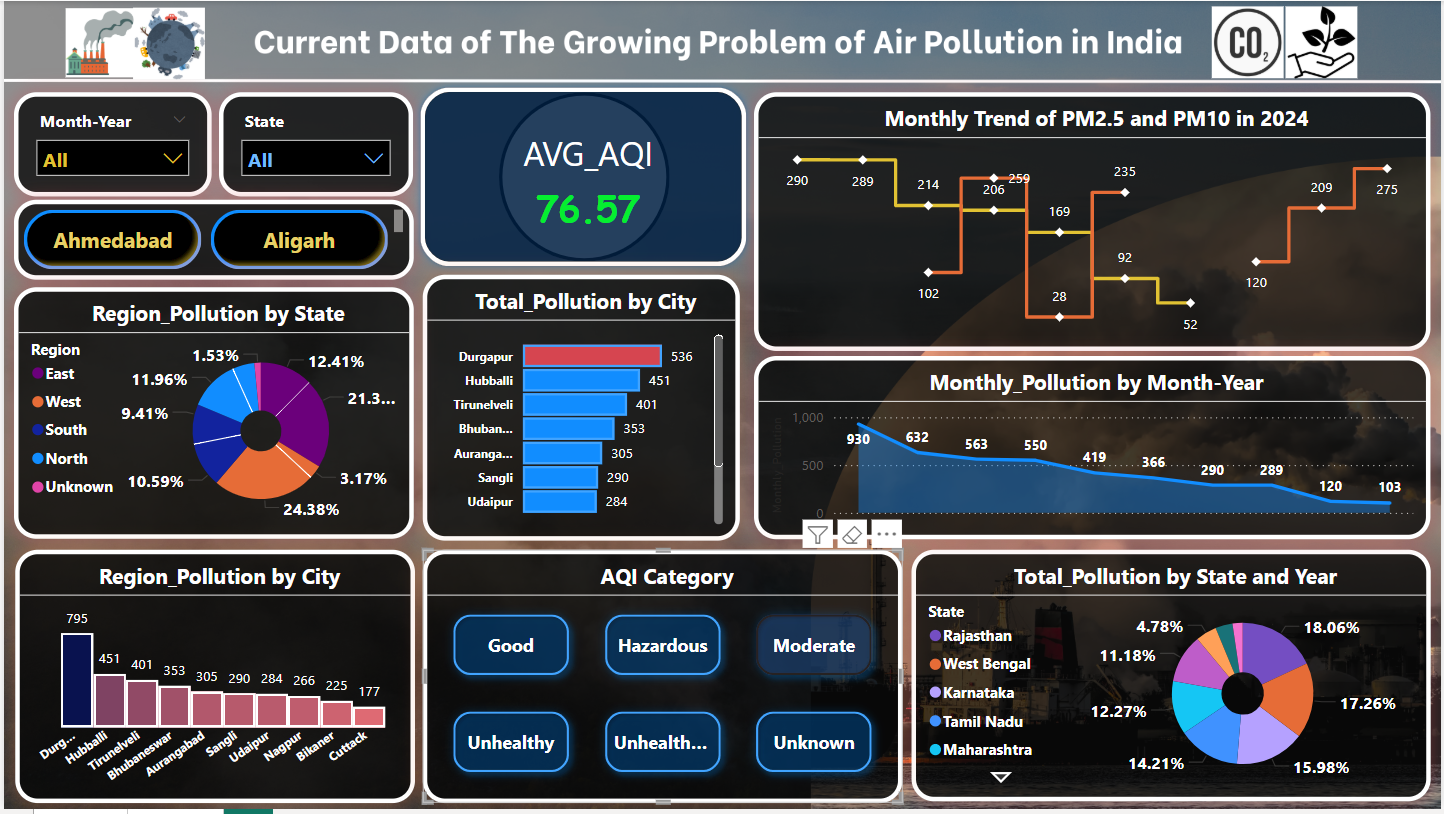

The dashboard page shown, as its layout file describes it:
{"tool":"powerbi","page":{"name":"Page 1","canvas":[1280,720],"ordinal":0},"visuals":[{"type":"lineChart","title":"Monthly Trend of PM2.5 and PM10 in 2024","fields":{"Y":["pollution_data_india.Avg_PM2.5","pollution_data_india.Avg_PM10"],"Category":["pollution_data_india.Month-Year"]},"box":[668.4,80.8,602,230.4],"z":0},{"type":"slicer","fields":{"Values":["pollution_data_india.Month-Year"]},"box":[8.4,80.8,176.1,92.9],"z":1000},{"type":"slicer","fields":{"Values":["pollution_data_india.State"]},"box":[191.8,80.8,172.5,92.9],"z":2000},{"type":"advancedSlicerVisual","fields":{"Values":["pollution_data_india.City"]},"box":[8.4,177.3,355.9,71.2],"z":3000},{"type":"shape","box":[440.4,80.8,152,150.8],"z":4000},{"type":"cardVisual","fields":{"Data":["pollution_data_india.AVG_AQI"]},"box":[354.7,61.5,324.5,193],"z":5000},{"type":"barChart","fields":{"Y":["pollution_data_india.Total_Pollution"],"Category":["pollution_data_india.City"]},"box":[372.8,243.7,282.3,236.5],"z":6000},{"type":"donutChart","fields":{"Category":["pollution_data_india.State"],"Y":["pollution_data_india.Total_Pollution"],"Series":["pollution_data_india.Year"]},"box":[808.3,488.6,462.1,224.4],"z":7000},{"type":"pieChart","title":"Region_Pollution by State","fields":{"Category":["pollution_data_india.Region"],"Y":["pollution_data_india.Region_Pollution"],"Series":["pollution_data_india.State"]},"box":[8.4,254.6,355.9,224.4],"z":8000},{"type":"areaChart","fields":{"Category":["pollution_data_india.Month-Year"],"Y":["pollution_data_india.Monthly_Pollution"]},"box":[668.4,316.1,602,162.9],"z":9000},{"type":"columnChart","fields":{"Y":["pollution_data_india.Region_Pollution"],"Category":["pollution_data_india.City"]},"box":[9.7,488.6,355.9,225.6],"z":10000},{"type":"advancedSlicerVisual","title":"AQI Category","fields":{"Values":["pollution_data_india.AQI_Category"]},"box":[372.8,488.6,427.1,225.6],"z":11000},{"type":"image","box":[96.2,1.2,102.5,73.8],"z":11001},{"type":"image","box":[1062.5,0,91.2,73.8],"z":11002},{"type":"image","box":[50,0,71.2,73.8],"z":11003},{"type":"image","box":[1133.8,0,80,73.8],"z":11004}]}

Visuals, with their boxes in screenshot pixels (x1, y1, x2, y2), scaled from the page's 1280x720 canvas onto the 1444x814 screenshot:
"Monthly Trend of PM2.5 and PM10 in 2024" lineChart: <box>754,91,1433,352</box>
slicer - pollution_data_india.Month-Year: <box>9,91,208,196</box>
slicer - pollution_data_india.State: <box>216,91,411,196</box>
advancedSlicerVisual - pollution_data_india.City: <box>9,200,411,281</box>
shape: <box>497,91,668,262</box>
cardVisual - pollution_data_india.AVG_AQI: <box>400,70,766,288</box>
barChart - pollution_data_india.Total_Pollution x pollution_data_india.City: <box>421,276,739,543</box>
donutChart - pollution_data_india.State x pollution_data_india.Total_Pollution: <box>912,552,1433,806</box>
"Region_Pollution by State" pieChart: <box>9,288,411,542</box>
areaChart - pollution_data_india.Month-Year x pollution_data_india.Monthly_Pollution: <box>754,357,1433,542</box>
columnChart - pollution_data_india.Region_Pollution x pollution_data_india.City: <box>11,552,412,807</box>
"AQI Category" advancedSlicerVisual: <box>421,552,902,807</box>
image: <box>109,1,224,85</box>
image: <box>1199,0,1302,83</box>
image: <box>56,0,137,83</box>
image: <box>1279,0,1369,83</box>
